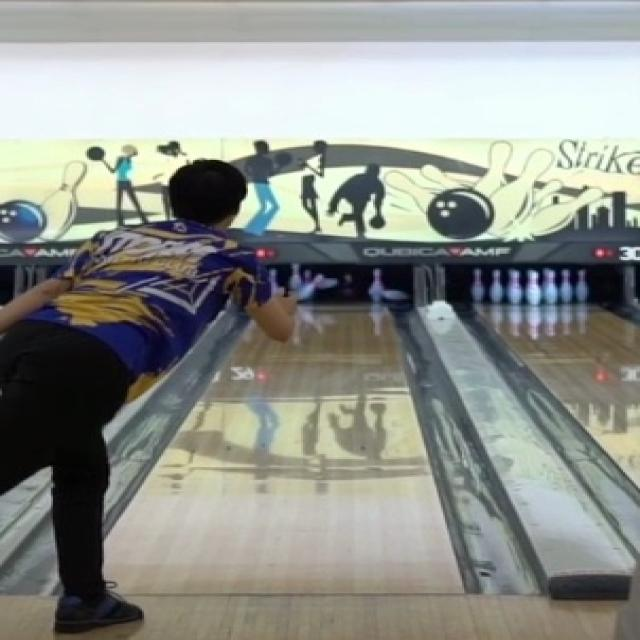alley: (110, 314, 458, 590)
bottle: (288, 263, 339, 302), (367, 268, 405, 302)
